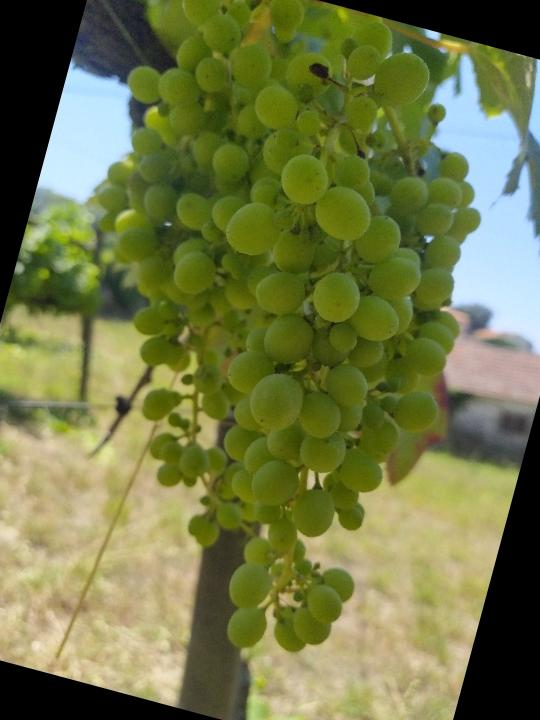grape: (0, 0, 537, 683)
